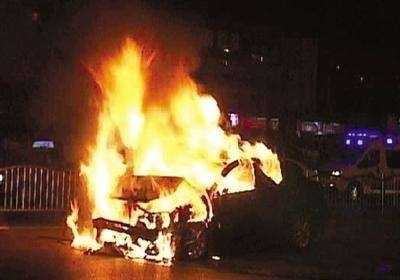fire: (77, 32, 283, 269)
